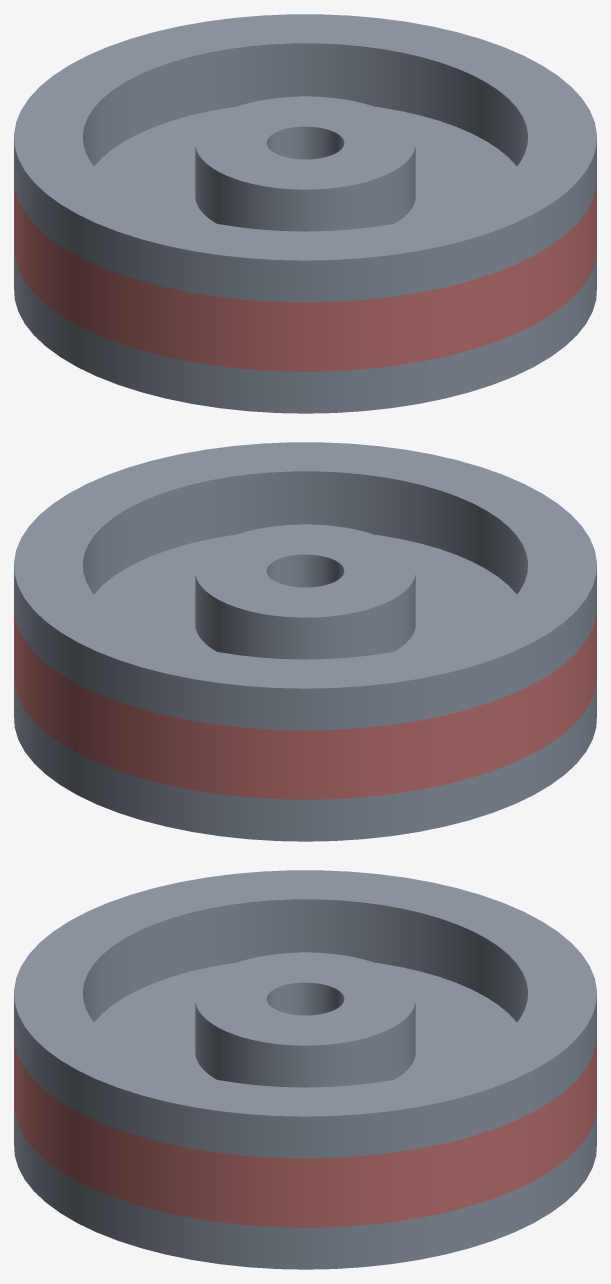
The model's file is step_02.glb.
3 views of the same model, one above another, from view 1: azimuth 30°, elevation 25°; view 2: azimuth 150°, elevation 25°; view 3: azimuth 270°, elevation 25° (orthographic).
Parts seen in each view (by area): view 1: part__V-belt pulley, removed__V-belt pulley; view 2: part__V-belt pulley, removed__V-belt pulley; view 3: part__V-belt pulley, removed__V-belt pulley.
Part boxes in pixels (x1=…): part__V-belt pulley: x1=14, y1=14, x2=596, y2=413; removed__V-belt pulley: x1=14, y1=179, x2=596, y2=371; part__V-belt pulley: x1=14, y1=442, x2=596, y2=841; removed__V-belt pulley: x1=14, y1=607, x2=596, y2=799; part__V-belt pulley: x1=14, y1=870, x2=596, y2=1269; removed__V-belt pulley: x1=14, y1=1035, x2=596, y2=1227.
Bounding box in the file's own units: 143 × 41.4 × 143.
